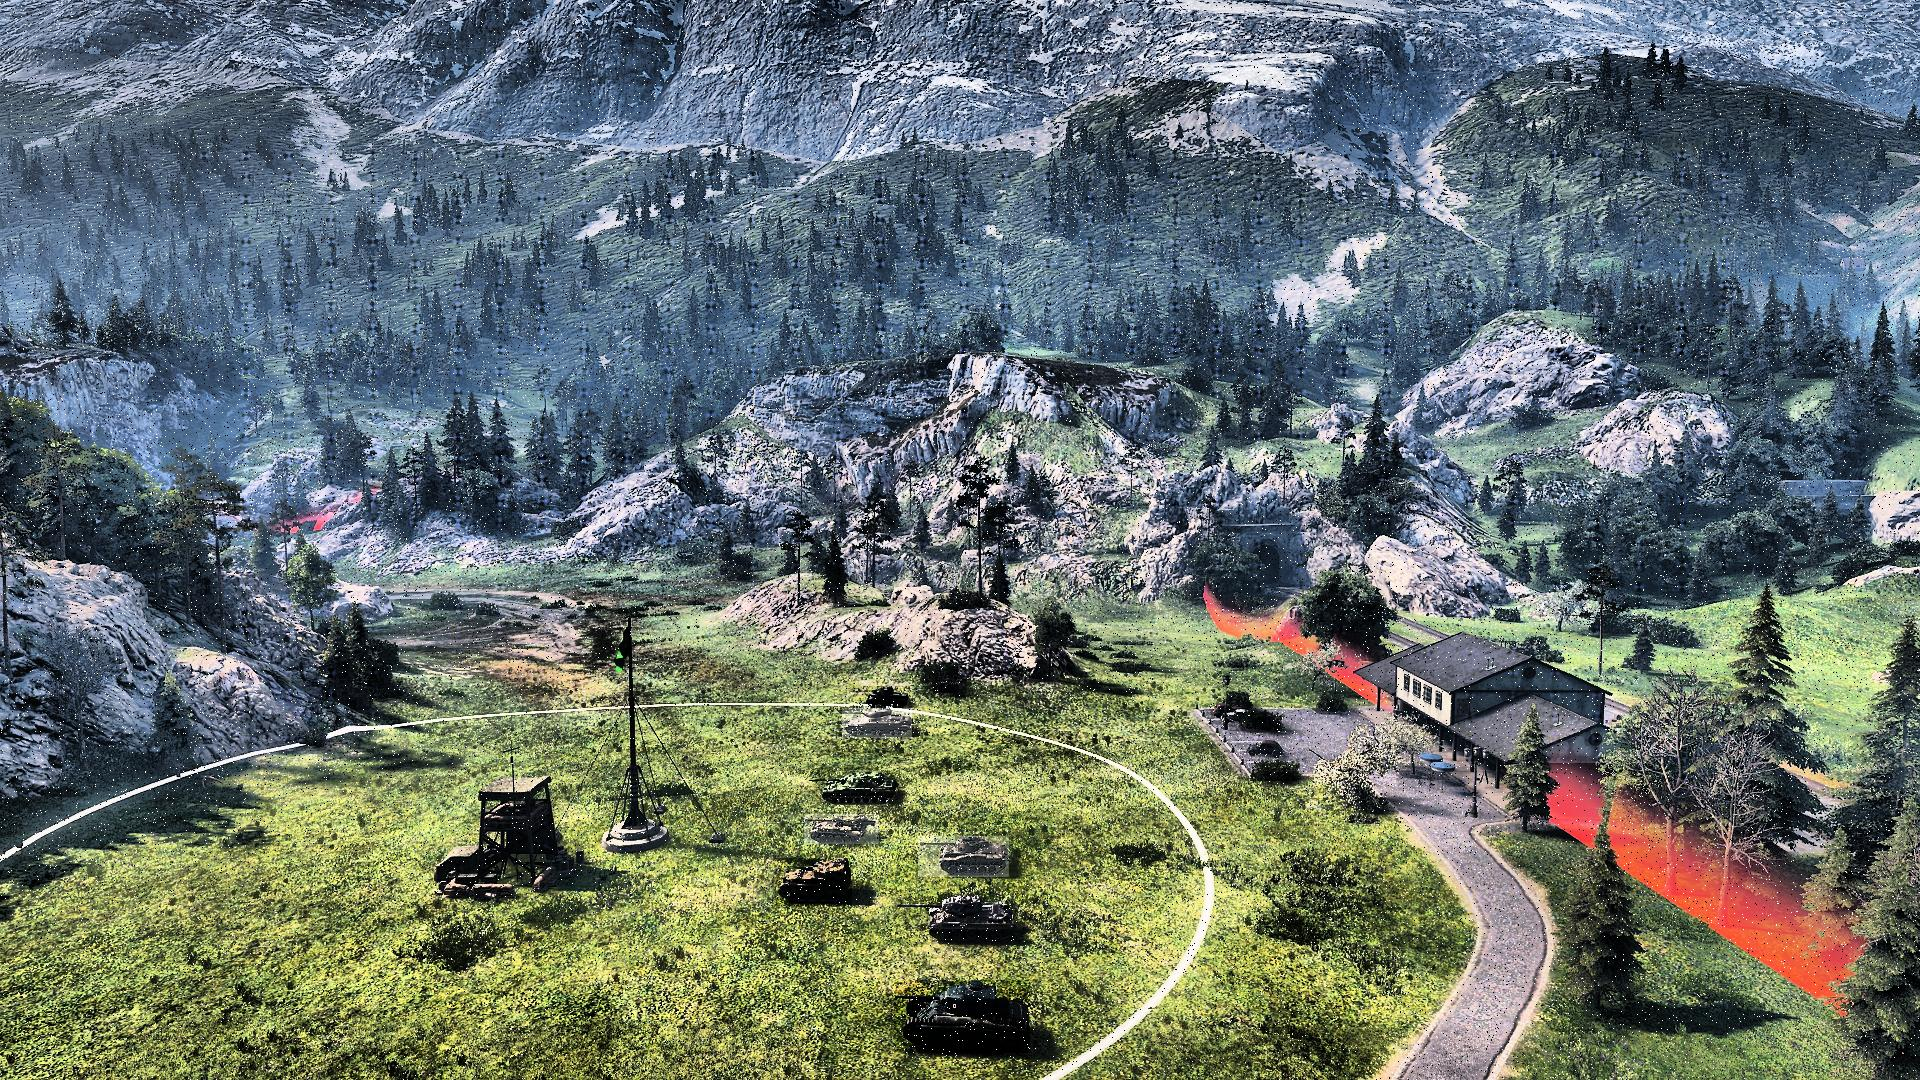military-vehicle: (894, 981, 1030, 1054), (897, 894, 1018, 944), (919, 837, 1010, 878), (775, 858, 852, 906), (810, 767, 901, 804), (804, 814, 878, 844), (843, 708, 913, 738), (849, 687, 910, 708)
